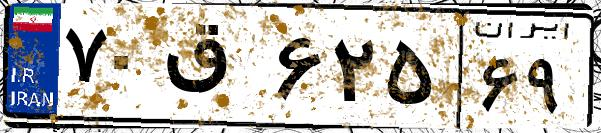0: (110, 28, 158, 98)
2: (330, 28, 385, 110)
5: (385, 28, 445, 110)
6: (270, 28, 330, 110), (475, 38, 525, 113)
7: (57, 26, 110, 100)
9: (525, 38, 570, 115)
ق: (158, 20, 270, 120)
